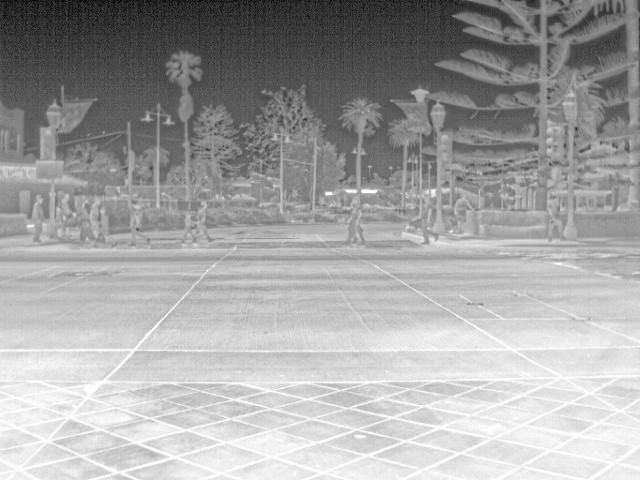person: (341, 200, 367, 250), (49, 193, 76, 239), (415, 193, 438, 245), (126, 204, 147, 246), (544, 196, 563, 242), (30, 194, 46, 243), (195, 200, 213, 242), (453, 192, 474, 225), (94, 210, 111, 247), (178, 211, 196, 245), (85, 197, 100, 232)
